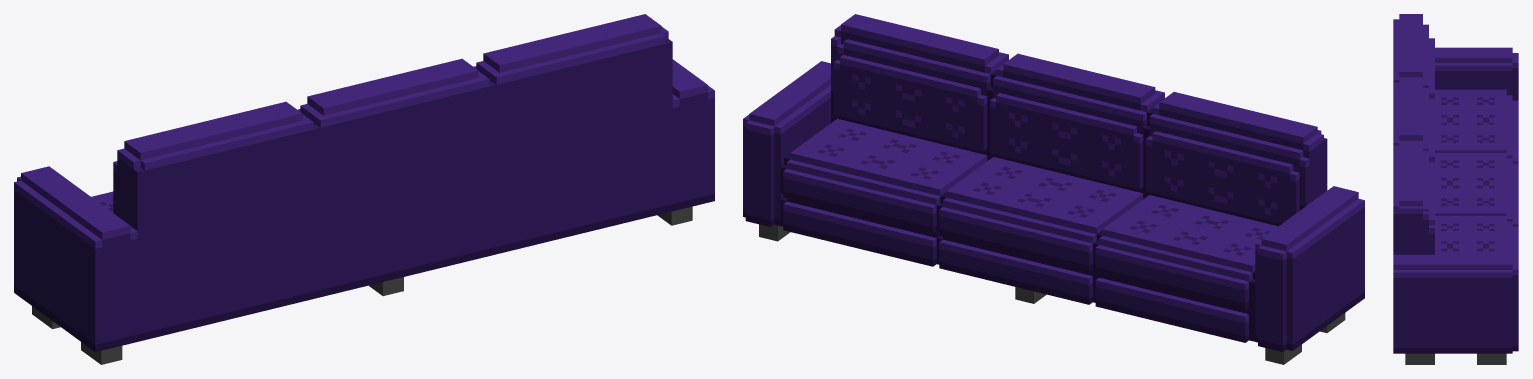
File: sofa3.obj
3 renders of one model, left to right at view 1: azimuth 30°, elevation 25°; view 2: azimuth 150°, elevation 25°; view 3: azimuth 270°, elevation 25°, orthographic. The views are drawn at different scales.
Visible parts, largest first — view 1: sofa3; view 2: sofa3; view 3: sofa3.
Part boxes in pixels (bbox=[...]): sofa3: bbox=[14, 14, 714, 364]; sofa3: bbox=[743, 14, 1364, 364]; sofa3: bbox=[1393, 14, 1518, 364].
Size of the model in its own units: 88 by 28 by 21.
Materials: 1 (1 with a texture image).
